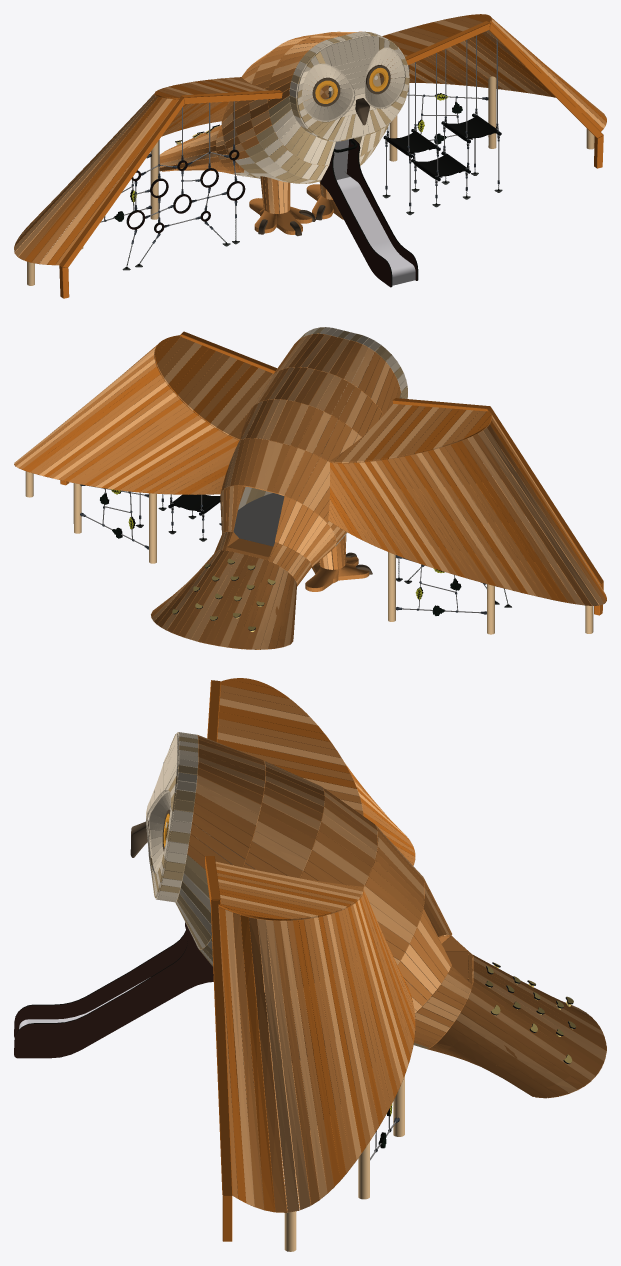
The model's file is rgss-301-p-owl.glb.
The picture shows the model from 3 angles, top to bottom: view 1: azimuth 30°, elevation 25°; view 2: azimuth 150°, elevation 25°; view 3: azimuth 270°, elevation 25°; orthographic projection. The views are drawn at different scales.
Parts seen in each view (by area): view 1: RGSS_301-Pfbx_2; view 2: RGSS_301-Pfbx_2; view 3: RGSS_301-Pfbx_2.
Part boxes in pixels (<box>): RGSS_301-Pfbx_2: <box>14,14,606,298</box>; RGSS_301-Pfbx_2: <box>14,327,606,649</box>; RGSS_301-Pfbx_2: <box>14,678,606,1251</box>.
Bounding box in the file's own units: 10.09 × 3.39 × 6.01.
2 materials, 2 textured.
